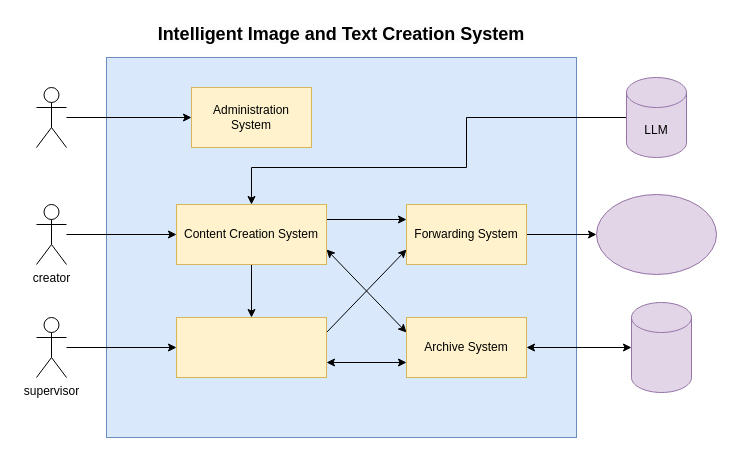
This 734x455 diagram has some shape labels left out. Here are the shapes that lost their labels. From the top down, the centre of each, then its label:
point 51,117: administrator
point 656,234: Email/ WeChat
point 251,347: Content Audit System
point 661,347: Cloud Database
